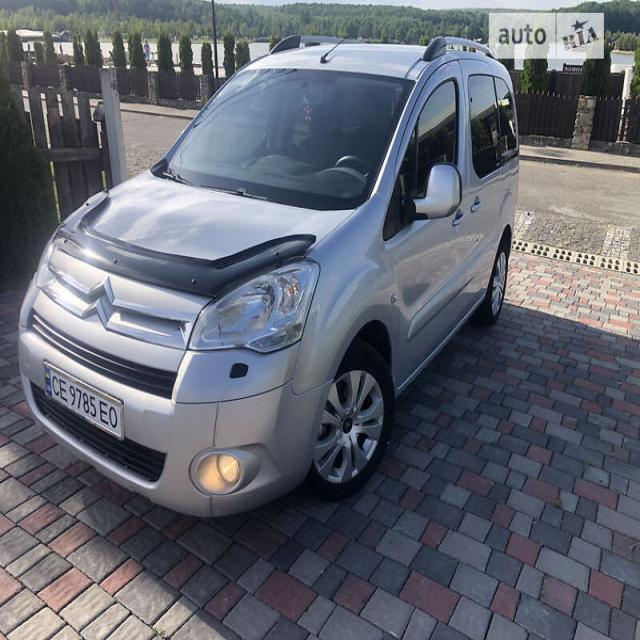plate: (41, 357, 130, 449)
